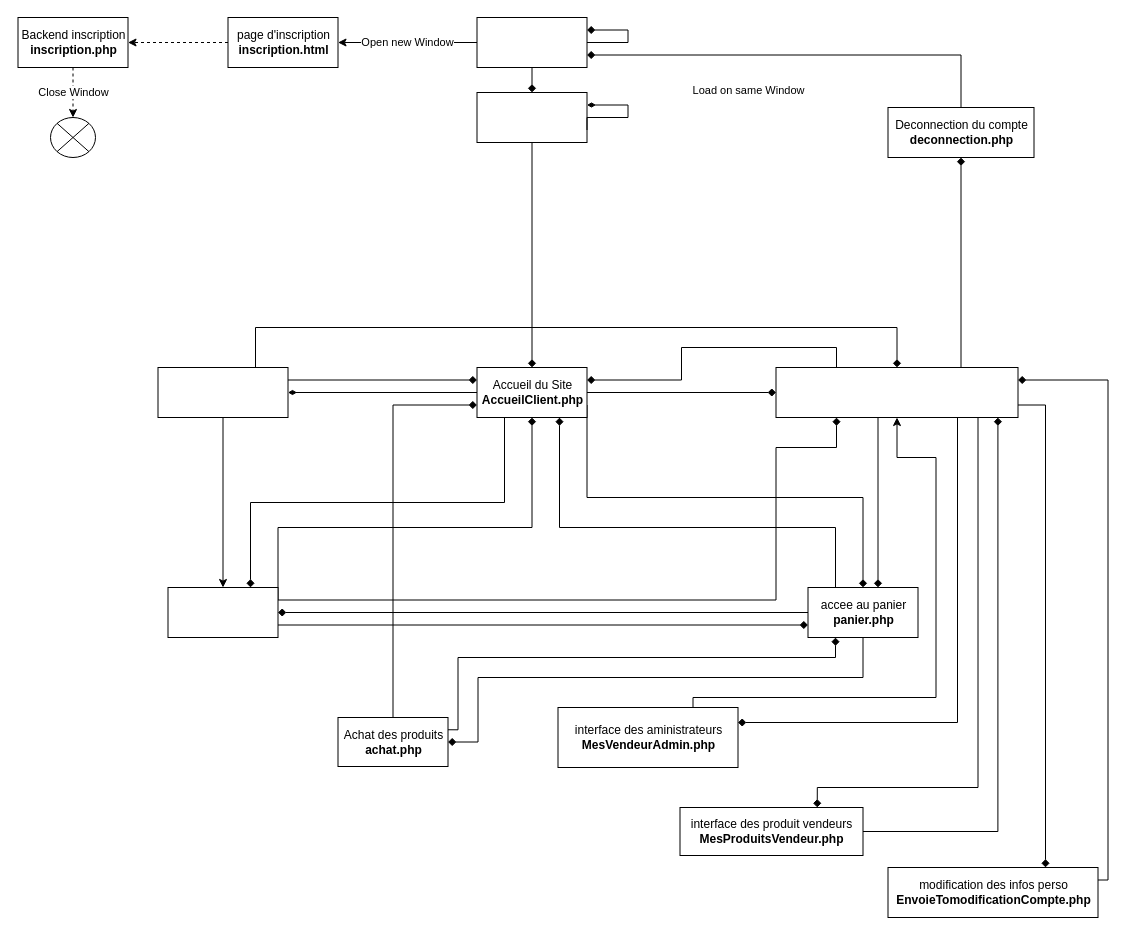
Image size: 1133x935. Some labels were removed from this diagram. Each missing label, with the centre of its shape:
Fiche d'un produit FicheProduit.php: (222,612)
Fiche du compte AccueilClientOuvertureFichePerso.php: (896,392)
Interface de recherche Categorie.php: (222,392)
login mot de passe PageMDP.php: (531,117)
page de connexion index.html: (531,42)
